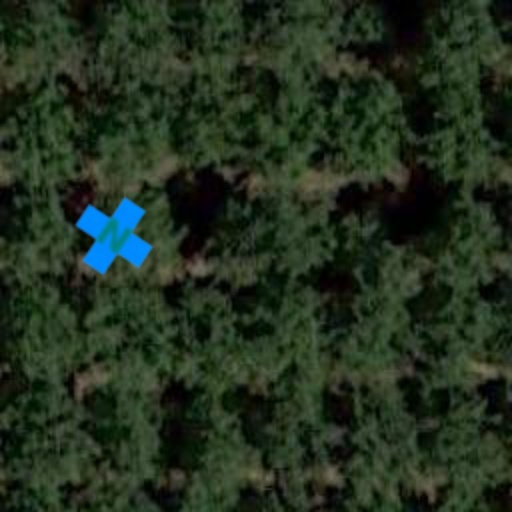cross: (60, 182, 168, 290)
